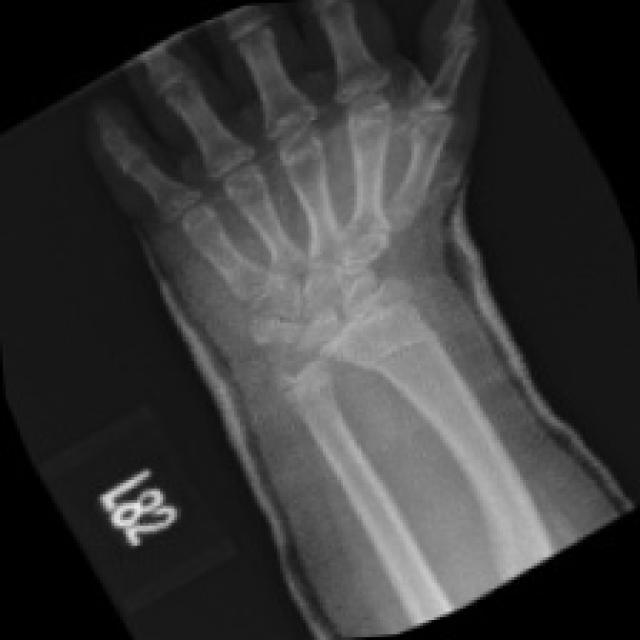fracture: (357, 329, 467, 388)
